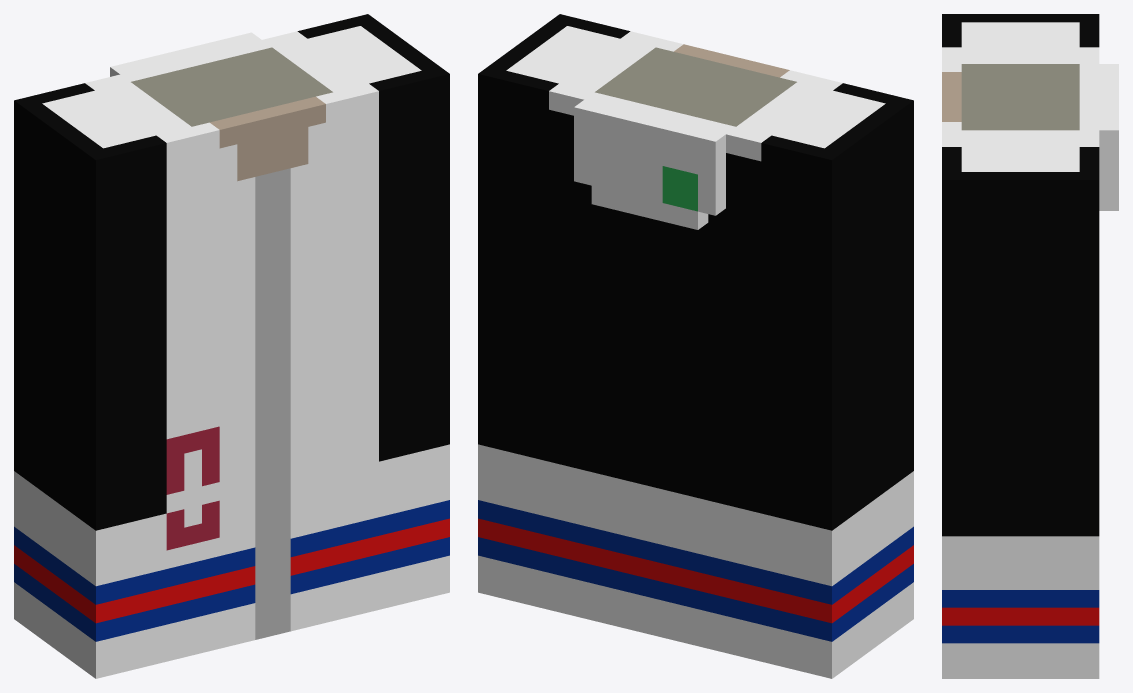
File: torso.obj
3 views of the same model, side by side, from view 1: azimuth 30°, elevation 25°; view 2: azimuth 150°, elevation 25°; view 3: azimuth 270°, elevation 25° (orthographic). The views are drawn at different scales.
Bounding box in the file's own units: 2 × 2.8 × 0.9.
Materials: 1 (1 with a texture image).
